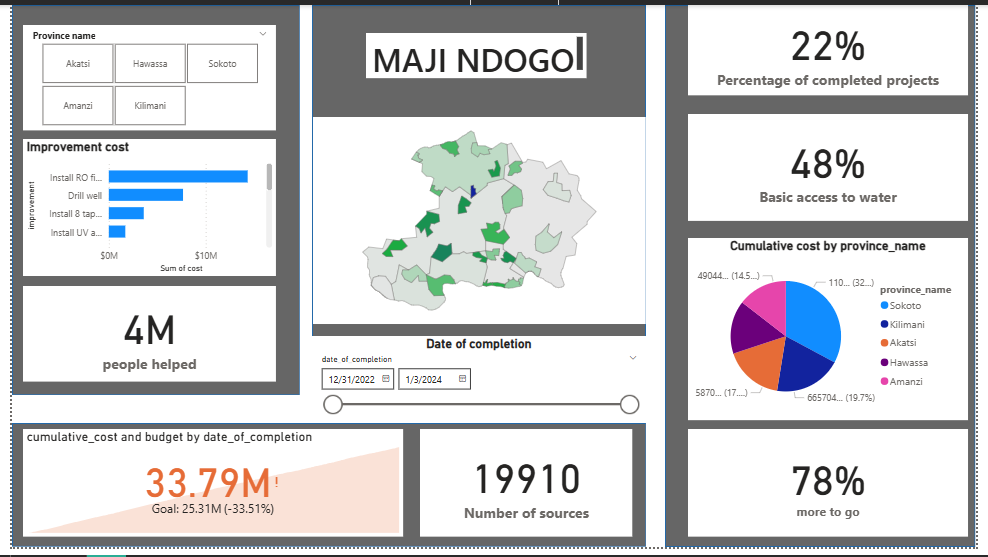

Layout of this report page (visuals, bound fields, positions):
{"tool":"powerbi","page":{"name":"Page 1","canvas":[1280,720],"ordinal":0},"visuals":[{"type":"shape","box":[0,555.7,842.5,164.3],"z":0},{"type":"shape","box":[867.9,0,412.3,720],"z":1000},{"type":"shape","box":[398.8,0,443.7,551.2],"z":2000},{"type":"shape","box":[0,0,382.4,518.3],"z":3000},{"type":"shapeMap","fields":{"Value":["project_progress.pct_project_complete"],"Category":["project_progress.town"]},"box":[400.3,149.4,442.2,274.9],"z":4000},{"type":"card","fields":{"Values":["project_progress.pct_project_complete"]},"box":[897.8,0,372,119.5],"z":5000},{"type":"card","fields":{"Values":["project_progress.more_to_go"]},"box":[897.8,563.2,372,143.4],"z":6000},{"type":"card","fields":{"Values":["water_source.Basic_access_to_water"]},"box":[897.8,144.9,372,141.9],"z":7000},{"type":"slicer","title":"Date of completion","fields":{"Values":["project_progress.date_of_completion"]},"box":[398.8,439.2,443.7,112],"z":8000},{"type":"pieChart","title":"Cumulative cost by province_name","fields":{"Y":["project_progress.cumulative_cost"],"Category":["location.province_name"]},"box":[897.8,309.2,372,242],"z":9000},{"type":"kpi","fields":{"Indicator":["project_progress.cumulative_cost"],"Goal":["project_progress.cumulative_budget"],"TrendLine":["project_progress.date_of_completion"]},"box":[14.9,563.2,504.9,143.4],"z":10000},{"type":"card","fields":{"Values":["project_progress.population_now_basic"]},"box":[14.9,373.4,336.1,127],"z":11000},{"type":"card","fields":{"Values":["project_progress.number_of_sources_to_improve"]},"box":[542.2,563.2,282.3,143.4],"z":12000},{"type":"clusteredBarChart","title":" Improvement cost","fields":{"Category":["project_progress.improvement"],"Y":["Sum(project_progress.cost)"]},"box":[14.9,177.8,336.1,182.2],"z":13000},{"type":"slicer","fields":{"Values":["location.province_name"]},"box":[14.9,26.9,336.1,140.4],"z":14000},{"type":"textbox","box":[470.5,37.3,292.8,59.8],"z":14002}]}

Visuals, with their boxes in screenshot pixels (x1, y1, x2, y2), scaled from the page's 1280x720 canvas onto the 988x557 screenshot:
shape: bbox(0, 430, 650, 556)
shape: bbox(670, 0, 987, 556)
shape: bbox(308, 0, 650, 426)
shape: bbox(0, 0, 295, 401)
shapeMap - project_progress.pct_project_complete x project_progress.town: bbox(309, 116, 650, 328)
card - project_progress.pct_project_complete: bbox(693, 0, 980, 92)
card - project_progress.more_to_go: bbox(693, 436, 980, 547)
card - water_source.Basic_access_to_water: bbox(693, 112, 980, 222)
"Date of completion" slicer: bbox(308, 340, 650, 426)
"Cumulative cost by province_name" pieChart: bbox(693, 239, 980, 426)
kpi - project_progress.cumulative_cost x project_progress.cumulative_budget: bbox(12, 436, 401, 547)
card - project_progress.population_now_basic: bbox(12, 289, 271, 387)
card - project_progress.number_of_sources_to_improve: bbox(419, 436, 636, 547)
" Improvement cost" clusteredBarChart: bbox(12, 138, 271, 278)
slicer - location.province_name: bbox(12, 21, 271, 129)
textbox: bbox(363, 29, 589, 75)
